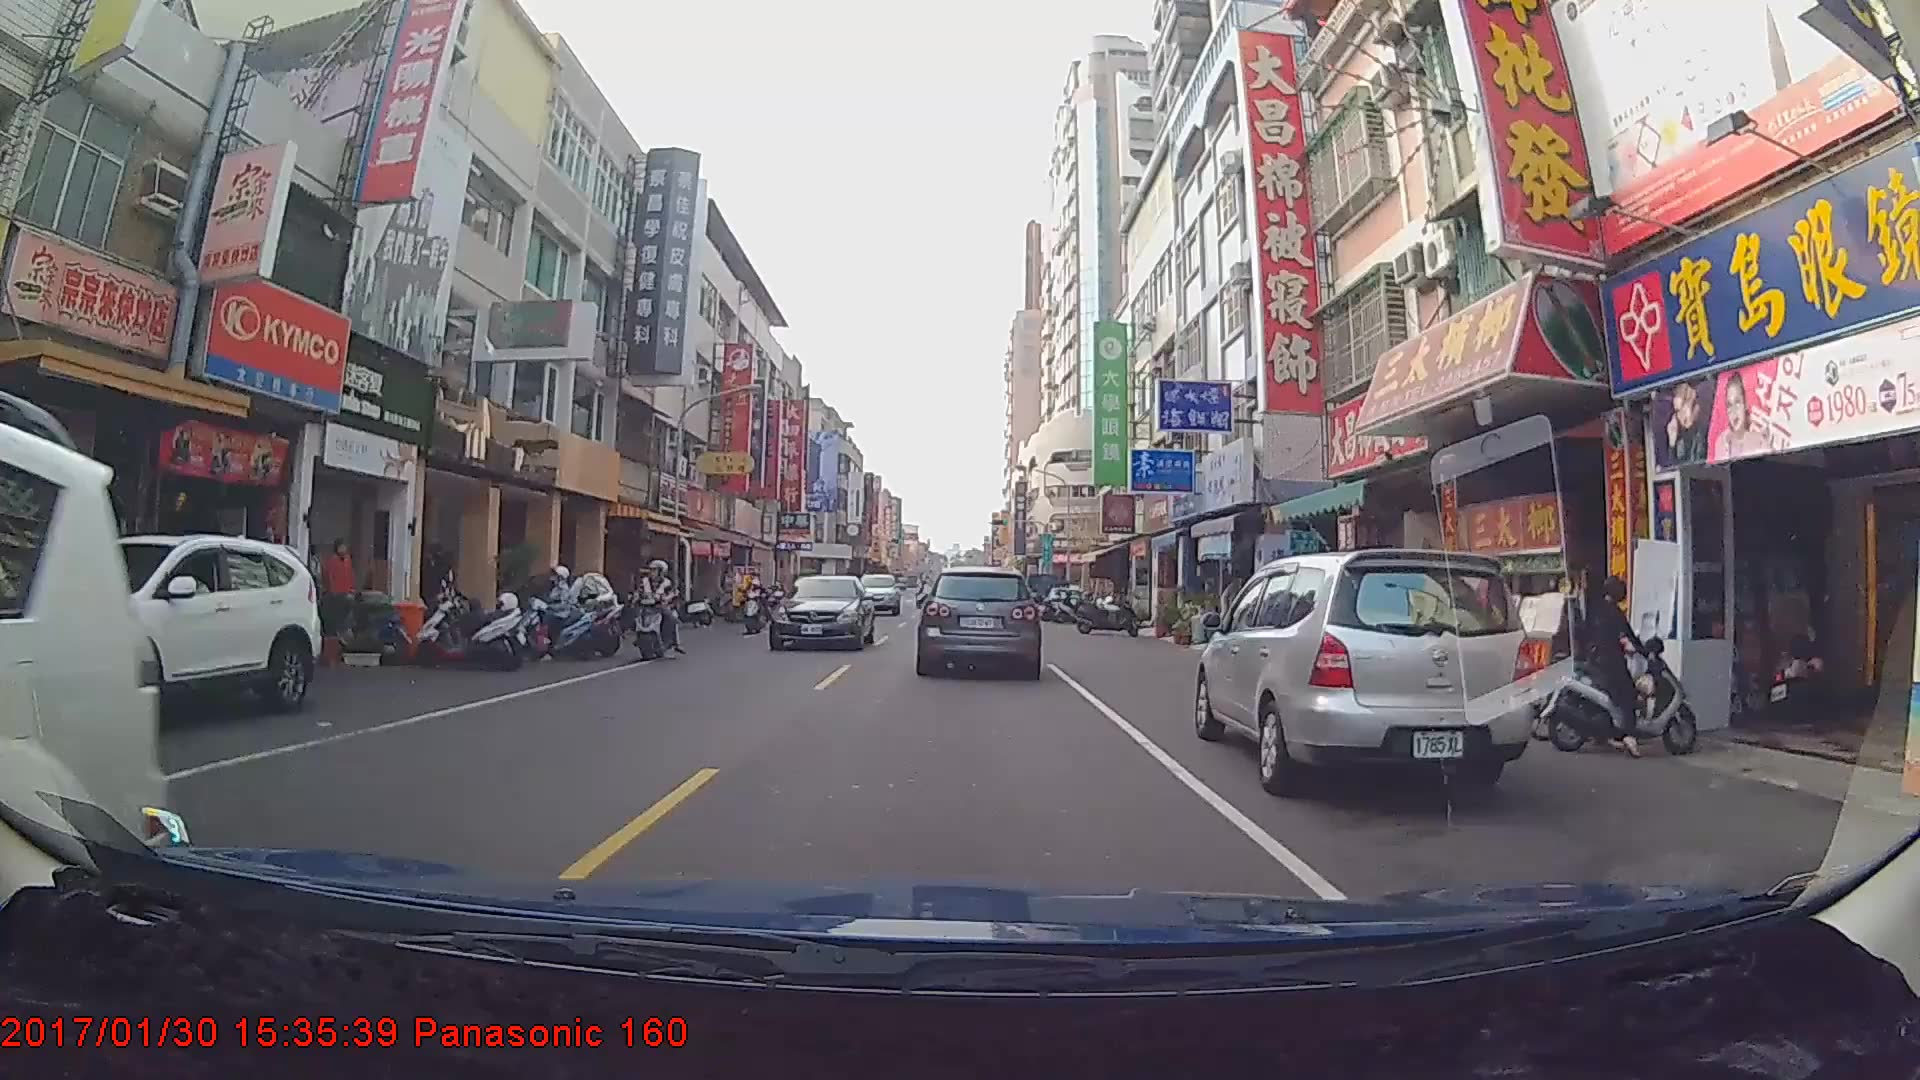pedestrian: (320, 533, 364, 637)
rider: (1541, 573, 1706, 764), (624, 555, 691, 662), (745, 577, 774, 632)
vehicle: (1194, 549, 1532, 797), (30, 534, 319, 732), (917, 564, 1039, 676), (769, 573, 874, 652), (851, 572, 901, 615)
